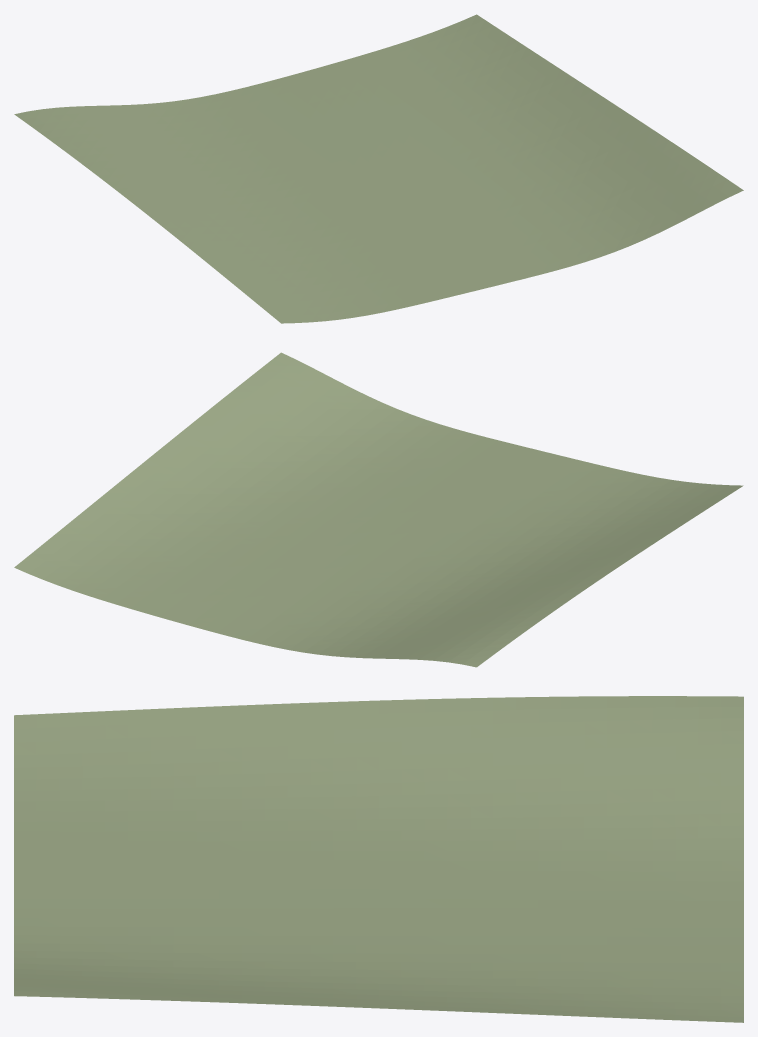
The model's file is desert-4-4.glb.
3 views of the same model, one above another, from view 1: azimuth 30°, elevation 25°; view 2: azimuth 150°, elevation 25°; view 3: azimuth 270°, elevation 25° (orthographic). The views are drawn at different scales.
Visible parts, largest first — view 1: desert-4-4; view 2: desert-4-4; view 3: desert-4-4.
Boxes of the visible parts, left/top/right/bottom form: desert-4-4: left=14, top=14, right=743, bottom=323; desert-4-4: left=14, top=352, right=743, bottom=667; desert-4-4: left=14, top=696, right=743, bottom=1022.
Size of the model in its own units: 512 by 38.11 by 512.
